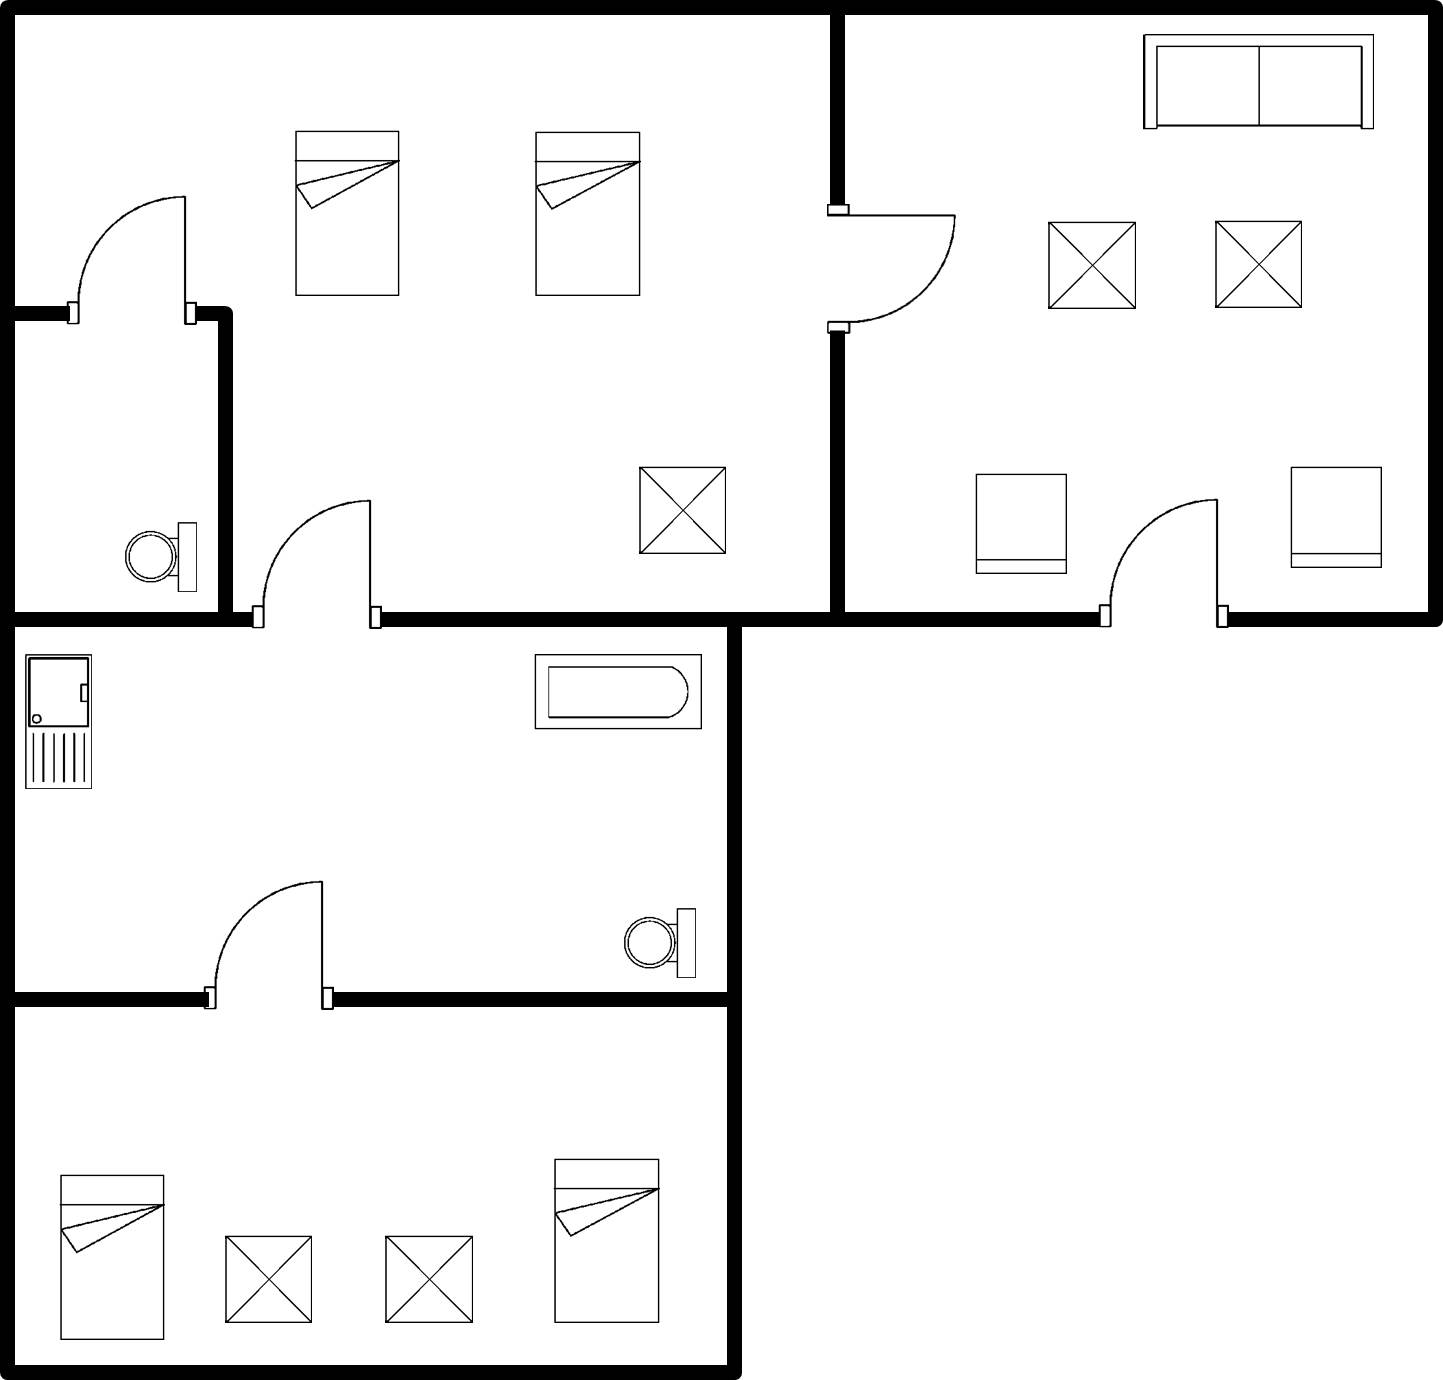bed: (281, 118, 409, 306), (524, 123, 650, 304), (544, 1153, 666, 1339), (54, 1166, 174, 1349)
coffee_table: (213, 1228, 320, 1337), (375, 1226, 482, 1333), (1202, 214, 1311, 320), (1038, 210, 1143, 320), (628, 458, 734, 561)
large_sink: (112, 508, 204, 607), (612, 896, 704, 985)
large_sofa: (1132, 26, 1384, 147)
sink: (20, 645, 101, 797)
small_sofa: (967, 462, 1080, 585), (1284, 456, 1394, 580)
tub: (524, 643, 709, 742)
